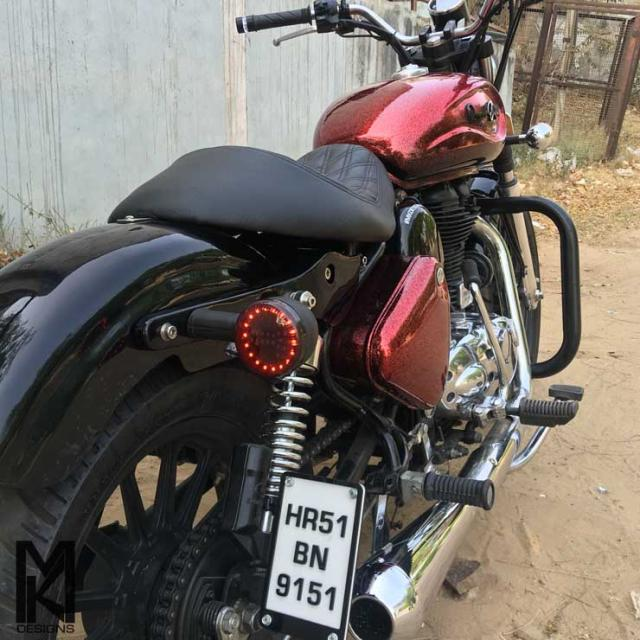number plate: (259, 470, 365, 638)
